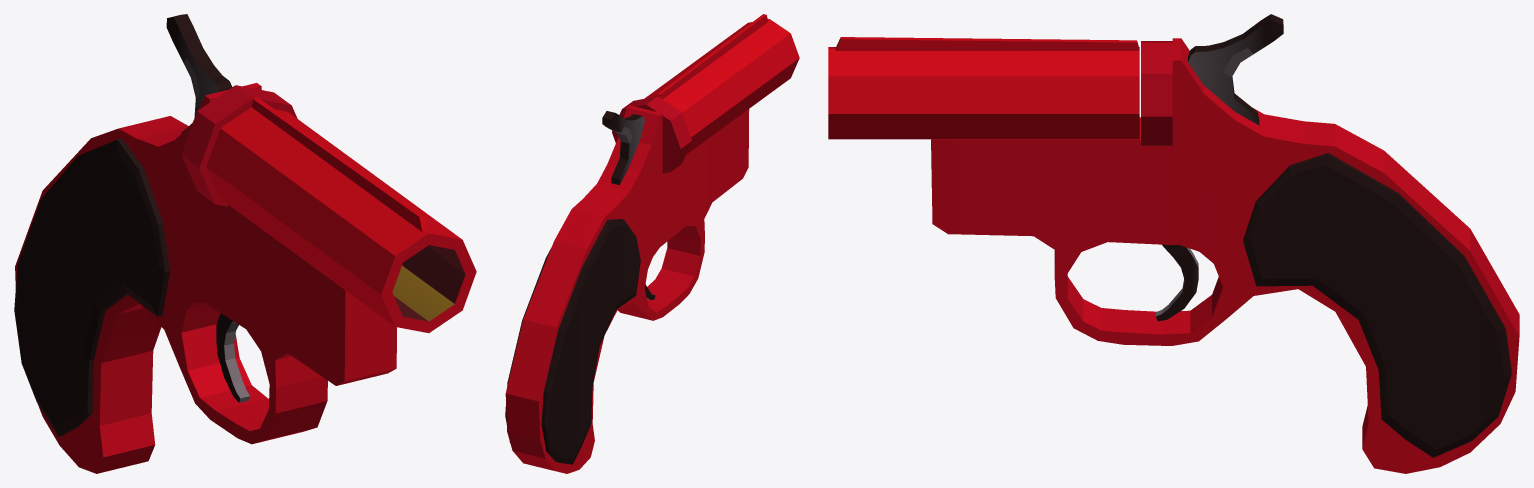
File: SIMPLEFLAREGUN.fbx
3 renders of one model, left to right at view 1: azimuth 30°, elevation 25°; view 2: azimuth 150°, elevation 25°; view 3: azimuth 270°, elevation 25°, orthographic. The views are drawn at different scales.
Parts seen in each view (by area): view 1: GunBody, Barrel, Grip, BarrelConnector, Hammer, Trigger; view 2: GunBody, Grip, Barrel, BarrelConnector, Hammer; view 3: GunBody, Grip, Barrel, Hammer, BarrelConnector, Trigger.
Boxes of the visible parts, bbox=[...] form: GunBody: bbox=[15, 83, 396, 473]; Barrel: bbox=[206, 98, 476, 333]; Grip: bbox=[14, 138, 169, 436]; BarrelConnector: bbox=[181, 85, 297, 206]; Hammer: bbox=[166, 14, 232, 133]; Trigger: bbox=[216, 313, 250, 402]; GunBody: bbox=[505, 105, 749, 473]; Grip: bbox=[505, 219, 640, 464]; Barrel: bbox=[645, 14, 799, 154]; BarrelConnector: bbox=[612, 96, 691, 173]; Hammer: bbox=[602, 111, 644, 185]; GunBody: bbox=[931, 38, 1519, 473]; Grip: bbox=[1243, 153, 1511, 457]; Barrel: bbox=[828, 37, 1139, 139]; Hammer: bbox=[1188, 14, 1283, 125]; BarrelConnector: bbox=[1141, 41, 1172, 145]; Trigger: bbox=[1155, 244, 1198, 321].
Size of the model in its own units: 10.87 by 47.99 by 67.43.
1 material, 1 textured.
